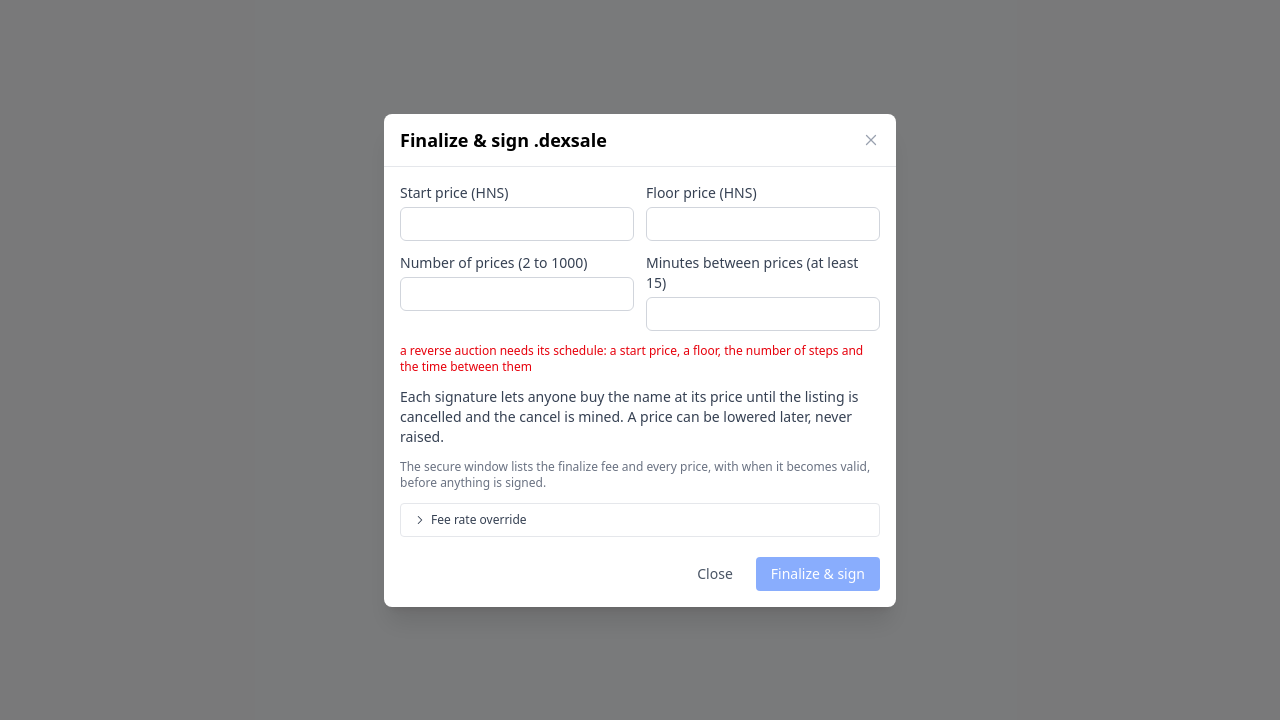
Scenario: FinalizeAndSign › warns when the schedule runs past a year, and still allows it
Type "1000" into the field with test id "fas-start" at coordinates (517, 224), box [400,206,634,240]
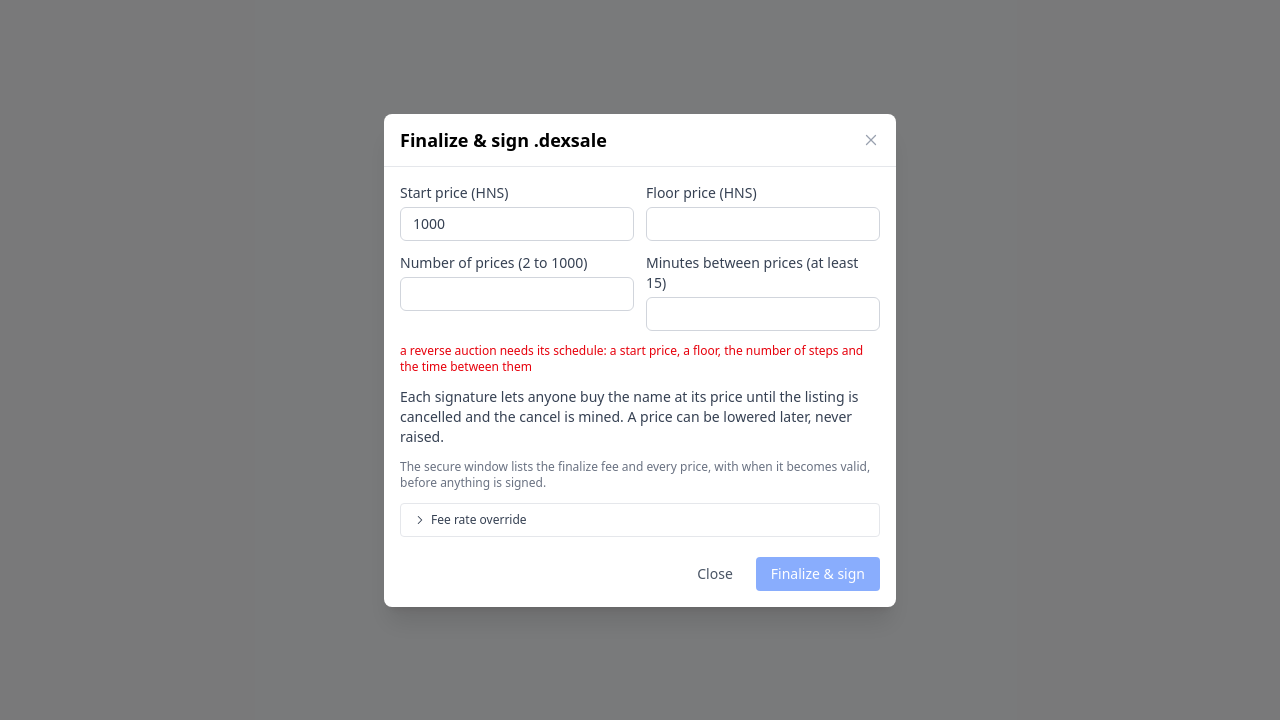
Type "1" into the field with test id "fas-floor" at coordinates (763, 224), box [646,206,880,240]
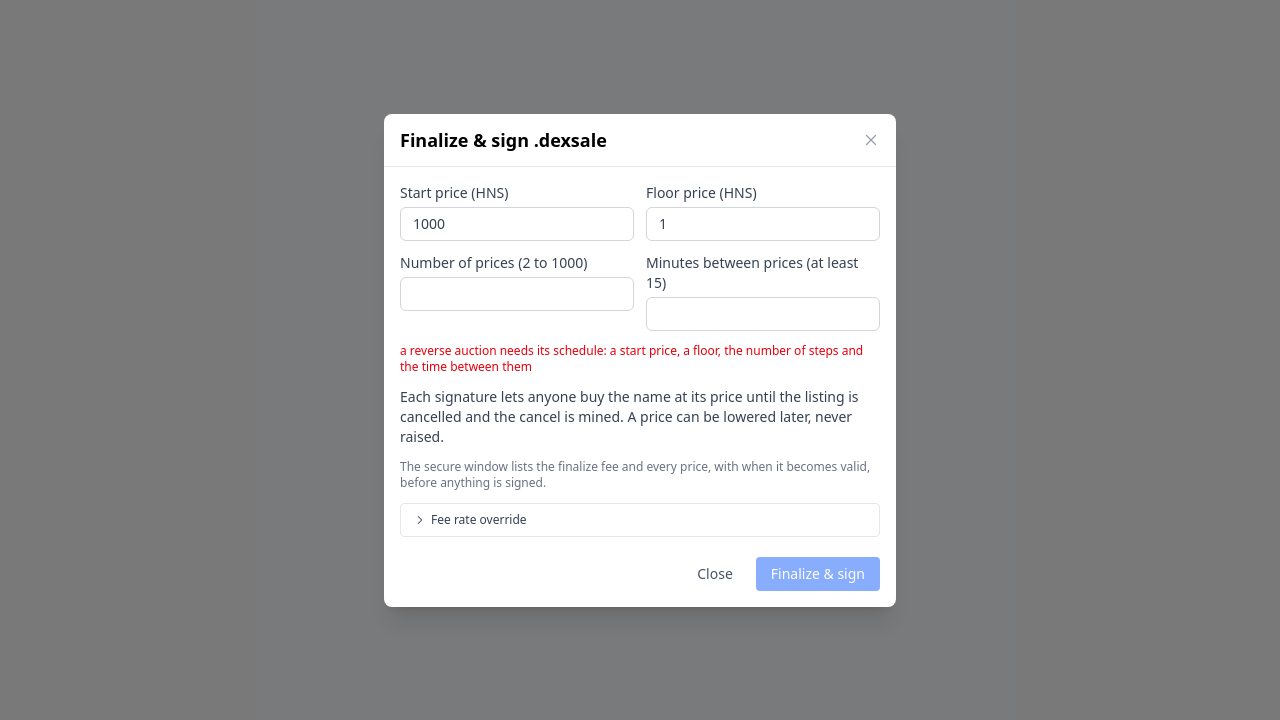
Type "1000" into the field with test id "fas-steps" at coordinates (517, 294), box [400,276,634,310]
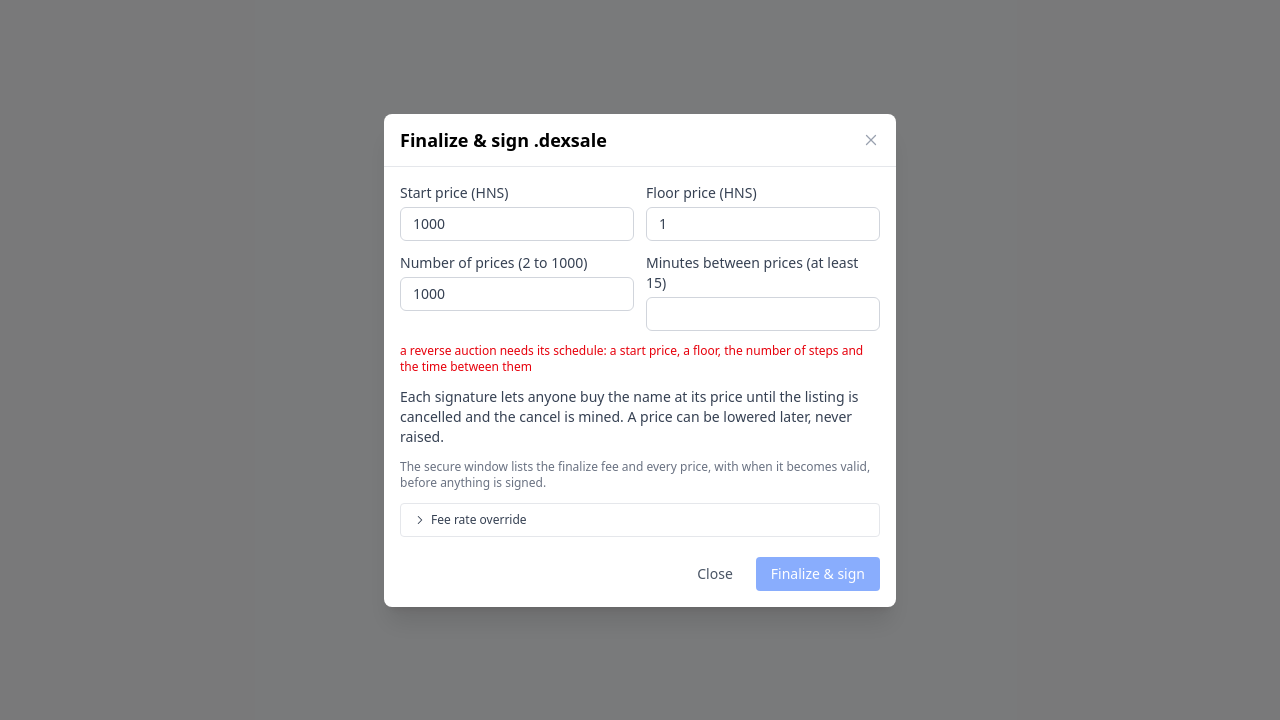
Type "1440" into the field with test id "fas-interval" at coordinates (763, 314), box [646,296,880,330]
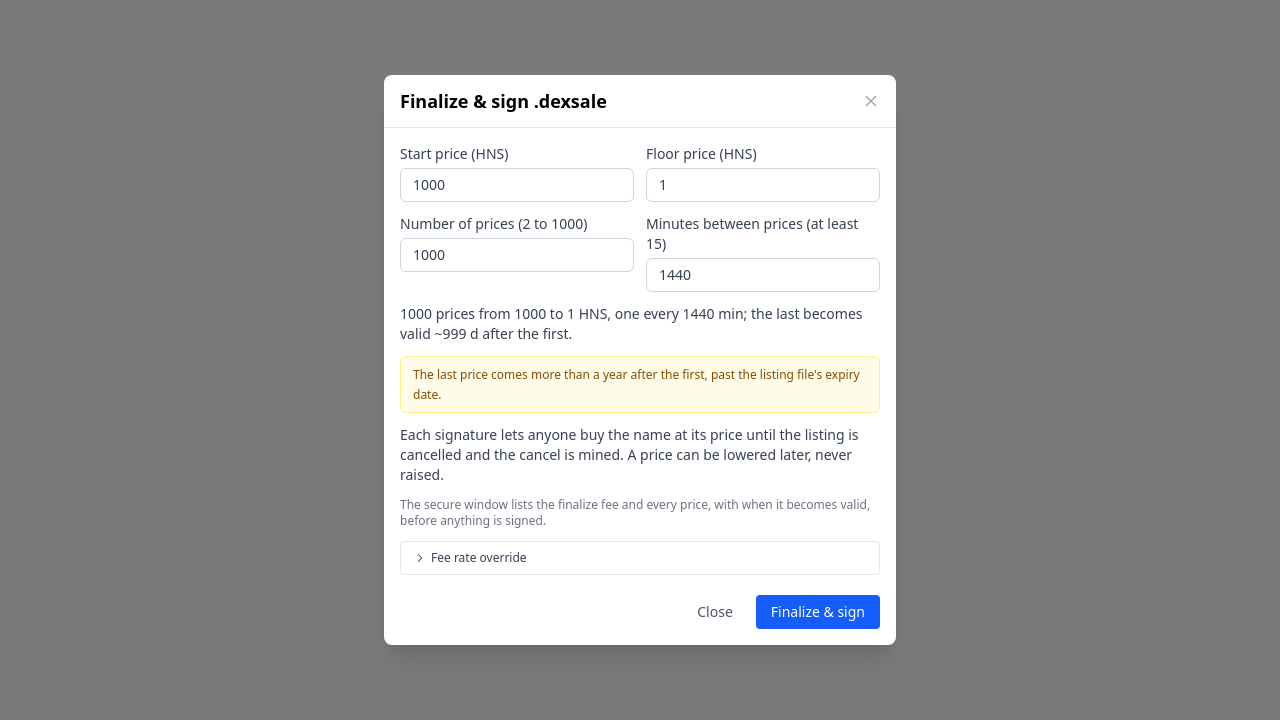
Result: the text "The last price comes more than a year after the first, past the listing file's expiry date." is shown at [413,366,860,402]
Result: the button with test id "fas-submit" is enabled at [756,595,880,629]
